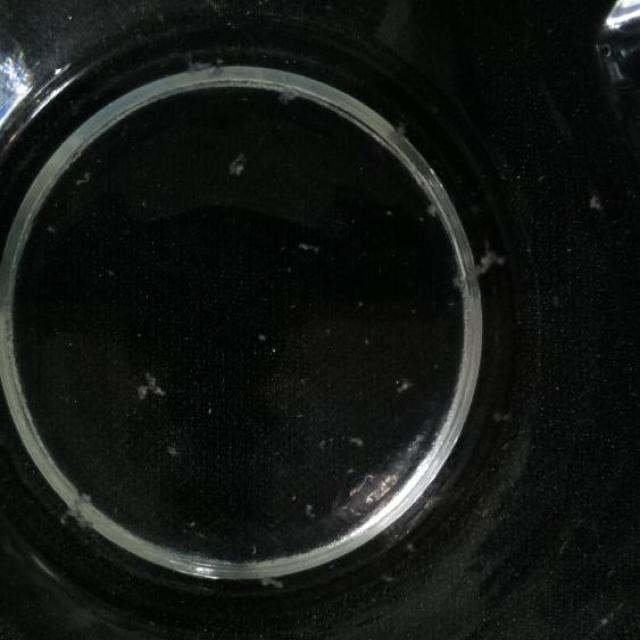fiber: (53, 477, 100, 534), (463, 243, 501, 294), (221, 143, 250, 186), (136, 364, 166, 402), (290, 232, 319, 258), (397, 368, 414, 406), (585, 184, 606, 214), (162, 435, 186, 459), (347, 423, 369, 449)
